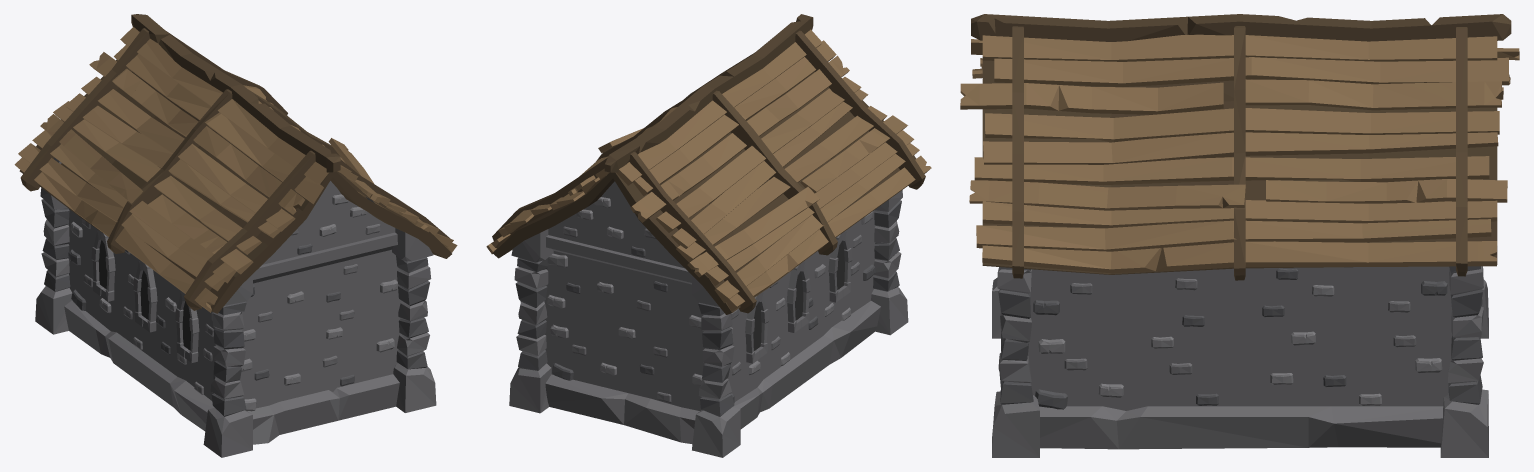
File: SM_Bld_Church_Room_02.gltf
The picture shows the model from 3 angles, left to right: view 1: azimuth 30°, elevation 25°; view 2: azimuth 150°, elevation 25°; view 3: azimuth 270°, elevation 25°; orthographic projection. The views are drawn at different scales.
Parts seen in each view (by area): view 1: SM_Bld_Church_Room_02; view 2: SM_Bld_Church_Room_02; view 3: SM_Bld_Church_Room_02.
Part boxes in pixels (x1,y1,x2,y2): SM_Bld_Church_Room_02: (14, 14, 457, 457); SM_Bld_Church_Room_02: (486, 14, 931, 457); SM_Bld_Church_Room_02: (960, 14, 1519, 457).
Bounding box in the file's own units: 6.42 × 6.4 × 8.75.
Materials: 1 (1 with a texture image).
